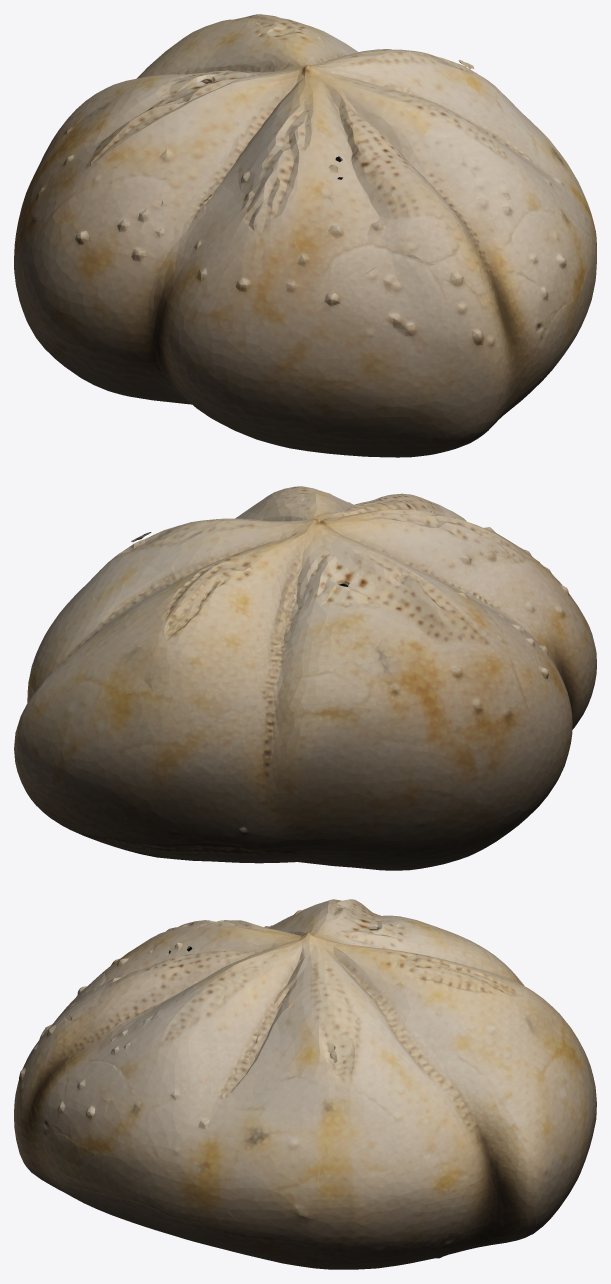
3 views of the same model, one above another, from view 1: azimuth 30°, elevation 25°; view 2: azimuth 150°, elevation 25°; view 3: azimuth 270°, elevation 25° (orthographic). The views are drawn at different scales.
Visible parts, largest first — view 1: world; view 2: world; view 3: world.
Part boxes in pixels (x1,y1,x2,y2): world: [14, 14, 596, 457]; world: [14, 486, 596, 870]; world: [14, 899, 596, 1269].
Bounding box in the file's own units: 0.9212 × 0.5235 × 0.9996.
Materials: 1 (1 with a texture image).
